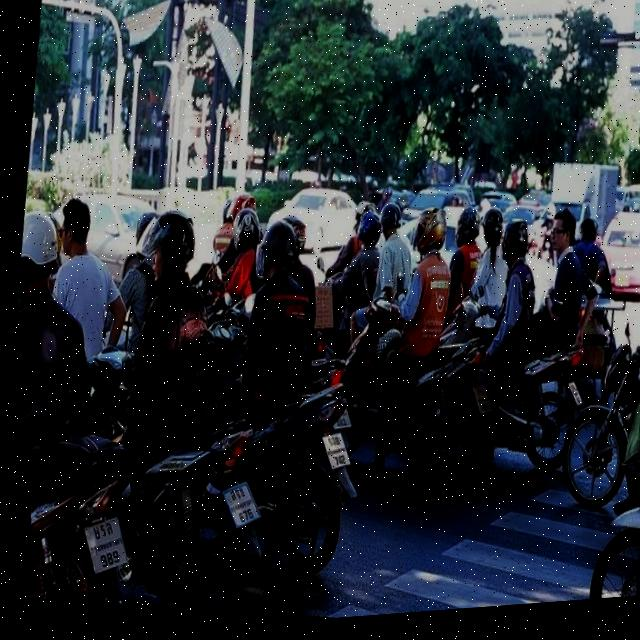car: (589, 198, 640, 307)
motorcycle: (115, 387, 296, 624), (330, 281, 517, 499), (254, 362, 394, 622), (24, 405, 149, 610), (551, 305, 640, 515), (497, 329, 593, 483)
plate: (69, 503, 143, 584), (215, 471, 272, 534), (311, 422, 362, 474)
